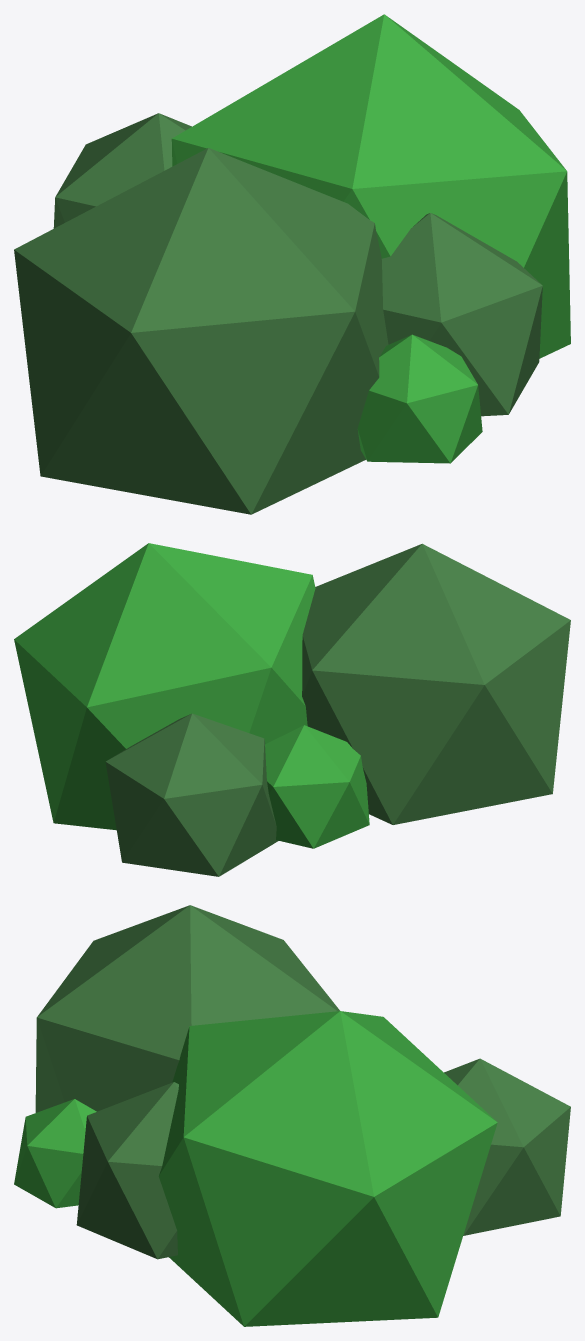
The model's file is BigBush.fbx.
The picture shows the model from 3 angles, top to bottom: view 1: azimuth 30°, elevation 25°; view 2: azimuth 150°, elevation 25°; view 3: azimuth 270°, elevation 25°; orthographic projection. The views are drawn at different scales.
Parts seen in each view (by area): view 1: Icosphere.002, Icosphere.006, Icosphere.005, Icosphere.004, Icosphere.001; view 2: Icosphere.002, Icosphere.006, Icosphere.001, Icosphere.003; view 3: Icosphere.006, Icosphere.002, Icosphere.001, Icosphere.005, Icosphere.004.
Boxes of the visible parts, x1=… form: Icosphere.002: x1=14, y1=148, x2=388, y2=514; Icosphere.006: x1=171, y1=14, x2=570, y2=358; Icosphere.005: x1=381, y1=213, x2=542, y2=416; Icosphere.004: x1=357, y1=334, x2=482, y2=463; Icosphere.001: x1=53, y1=113, x2=191, y2=228; Icosphere.002: x1=302, y1=543, x2=570, y2=824; Icosphere.006: x1=14, y1=543, x2=315, y2=830; Icosphere.001: x1=105, y1=713, x2=278, y2=876; Icosphere.003: x1=265, y1=725, x2=369, y2=848; Icosphere.006: x1=158, y1=1011, x2=497, y2=1326; Icosphere.002: x1=35, y1=905, x2=339, y2=1112; Icosphere.001: x1=444, y1=1058, x2=570, y2=1235; Icosphere.005: x1=76, y1=1082, x2=178, y2=1259; Icosphere.004: x1=14, y1=1099, x2=96, y2=1208.
Bounding box in the file's own units: 352 × 192 × 346.
